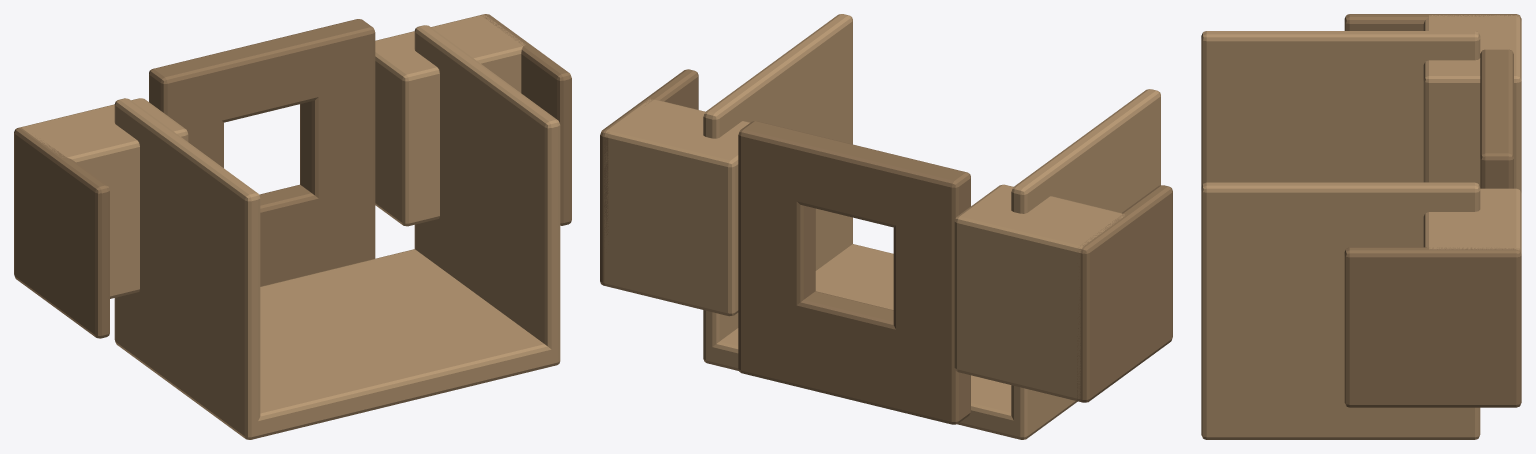
File: wood_chestplate_held.gltf
3 views of the same model, side by side, from view 1: azimuth 30°, elevation 25°; view 2: azimuth 150°, elevation 25°; view 3: azimuth 270°, elevation 25° (orthographic). The views are drawn at different scales.
Visible parts, largest first — view 1: armor_wood_chestplate_held; view 2: armor_wood_chestplate_held; view 3: armor_wood_chestplate_held.
Boxes of the visible parts, x1=… form: armor_wood_chestplate_held: x1=14, y1=14, x2=571, y2=439; armor_wood_chestplate_held: x1=600, y1=14, x2=1172, y2=439; armor_wood_chestplate_held: x1=1201, y1=14, x2=1521, y2=439.
Bounding box in the file's own units: 0.2 × 0.1053 × 0.1124.
